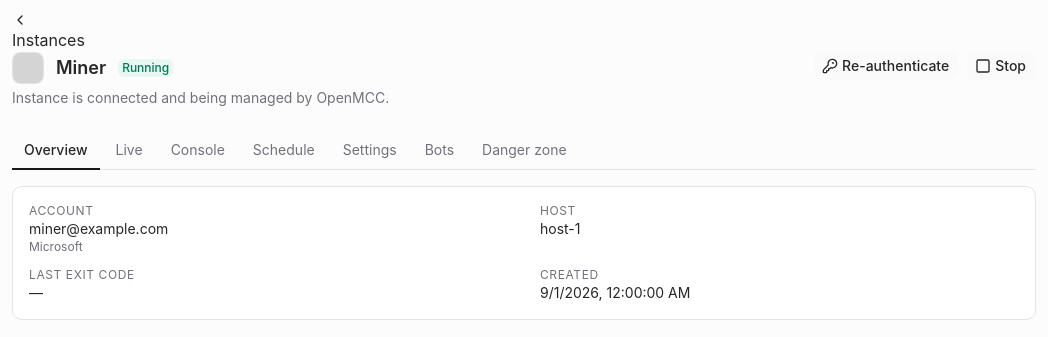
Test: a live reading once the bot is no longer live › stops showing the last reading when the bot stops
Check: the tab "Overview" is shown, box [12,132,100,170]
Step 1. Click the tab "Live" → [129, 151], box [104,132,155,170]
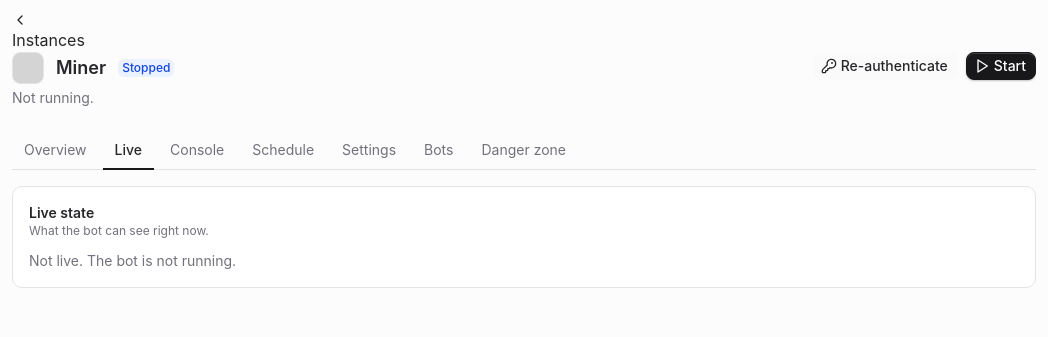
Check: the text "Not live. The bot is not running." is shown, box [29,252,236,269]
